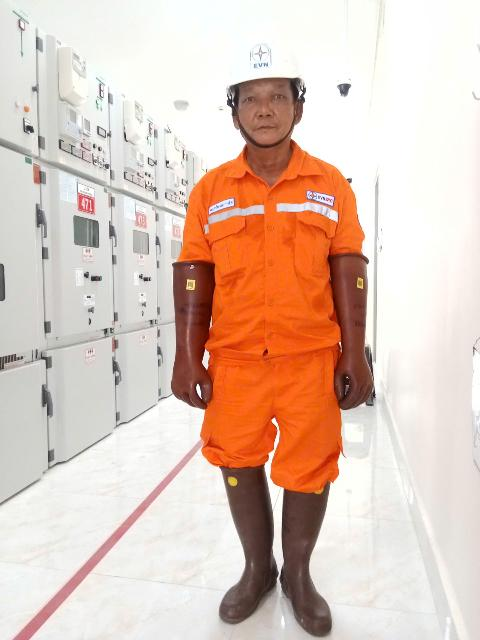gloves: (317, 244, 382, 415), (168, 257, 228, 419)
helmet: (196, 37, 326, 93)
shoes: (181, 448, 279, 618), (261, 447, 345, 640)
